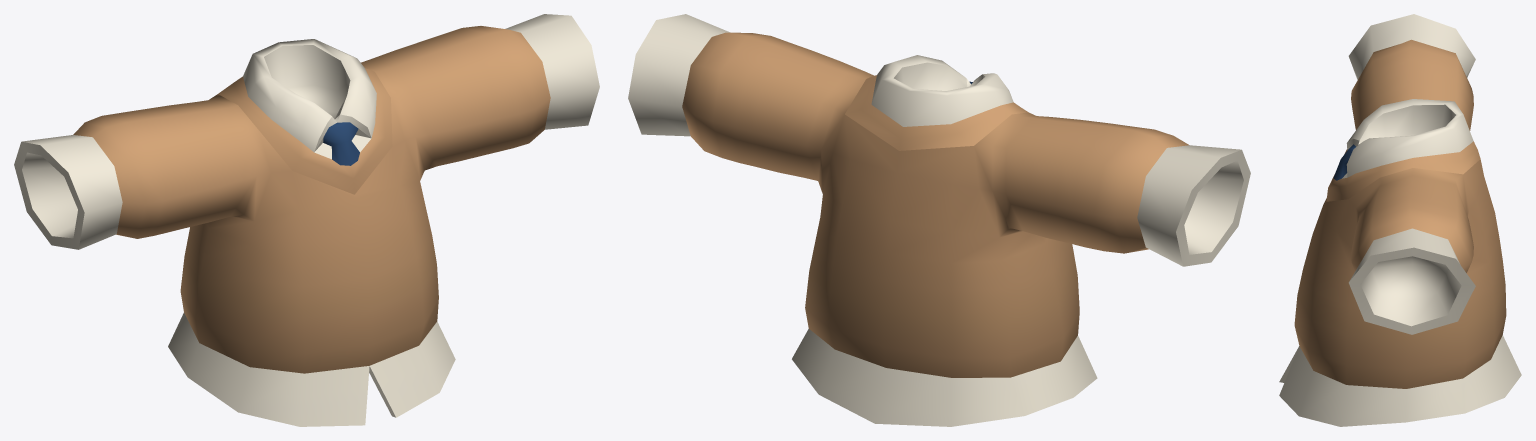
Rendered from Top_46.fbx.
The picture shows the model from 3 angles, left to right: view 1: azimuth 30°, elevation 25°; view 2: azimuth 150°, elevation 25°; view 3: azimuth 270°, elevation 25°; orthographic projection. The views are drawn at different scales.
Visible parts, largest first — view 1: Top_46; view 2: Top_46; view 3: Top_46.
Boxes of the visible parts, x1=… form: Top_46: x1=14, y1=14, x2=599, y2=426; Top_46: x1=628, y1=14, x2=1250, y2=426; Top_46: x1=1279, y1=14, x2=1521, y2=426.
Size of the model in its own units: 100 by 55.21 by 44.08.
